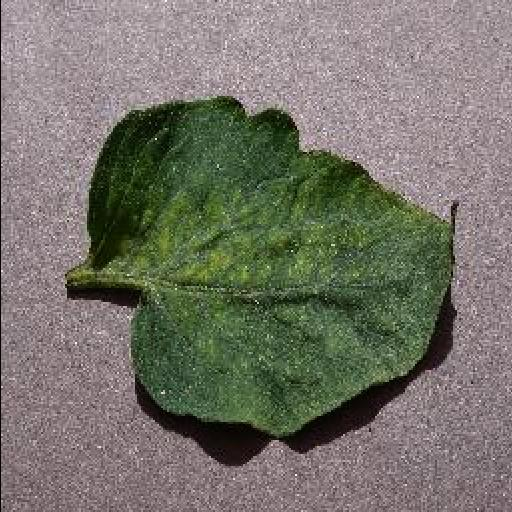disease_tomato: (86, 98, 456, 440)
